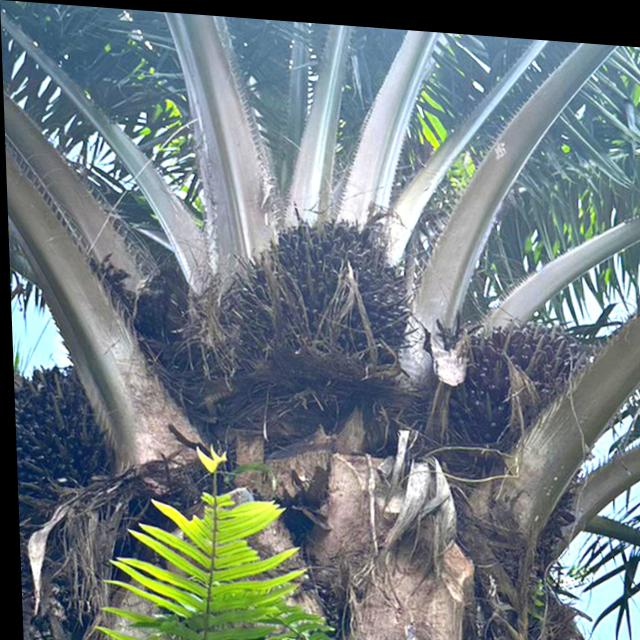unripe: (216, 187, 424, 399)
